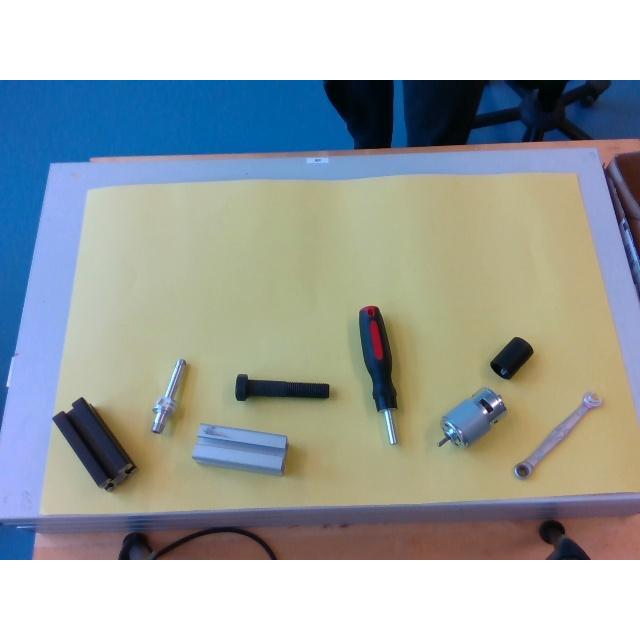M20_100: (235, 374, 328, 402)
Motor2: (438, 388, 507, 448)
S40_40_B: (52, 398, 136, 490)
S40_40_G: (194, 423, 286, 475)
Wrench: (514, 392, 602, 480)
